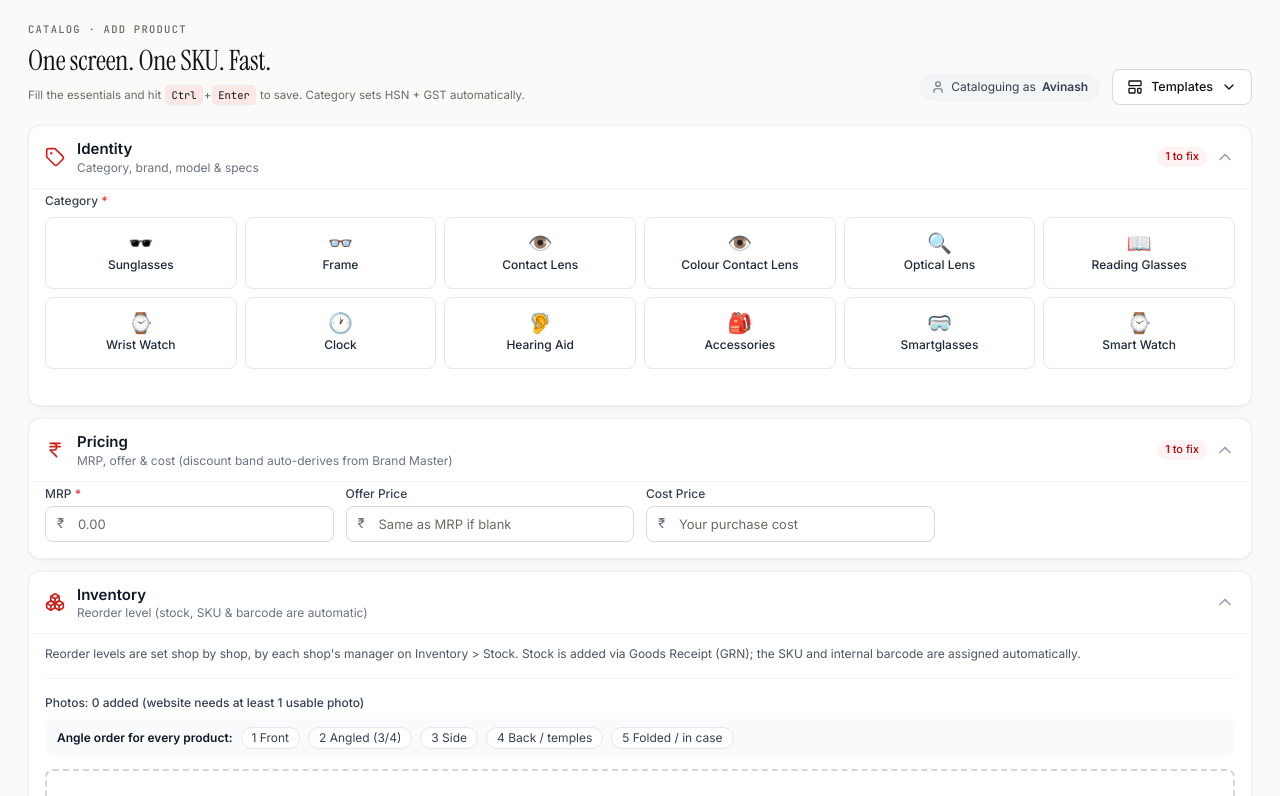
Test: 2 - a count on each section header › splits the validator's errors by section, stays visible on a CLOSED header, and clears as fields fill
This screenshot has width=1280, height=796.
Click the text "Sunglasses" at (141, 265), box [108, 257, 174, 273]
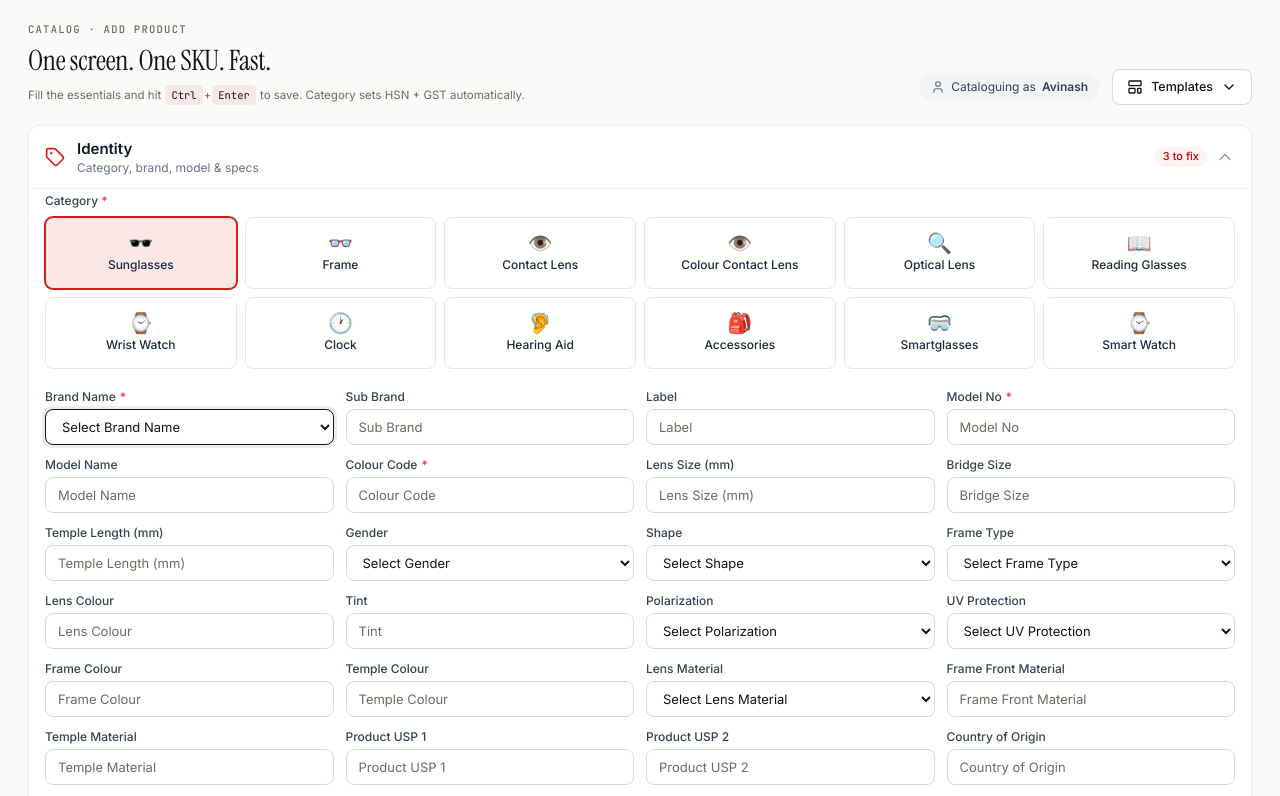
Click the button "Identity Category, brand, model & specs 3 to fix" at (105, 149), box [29, 126, 1251, 188]
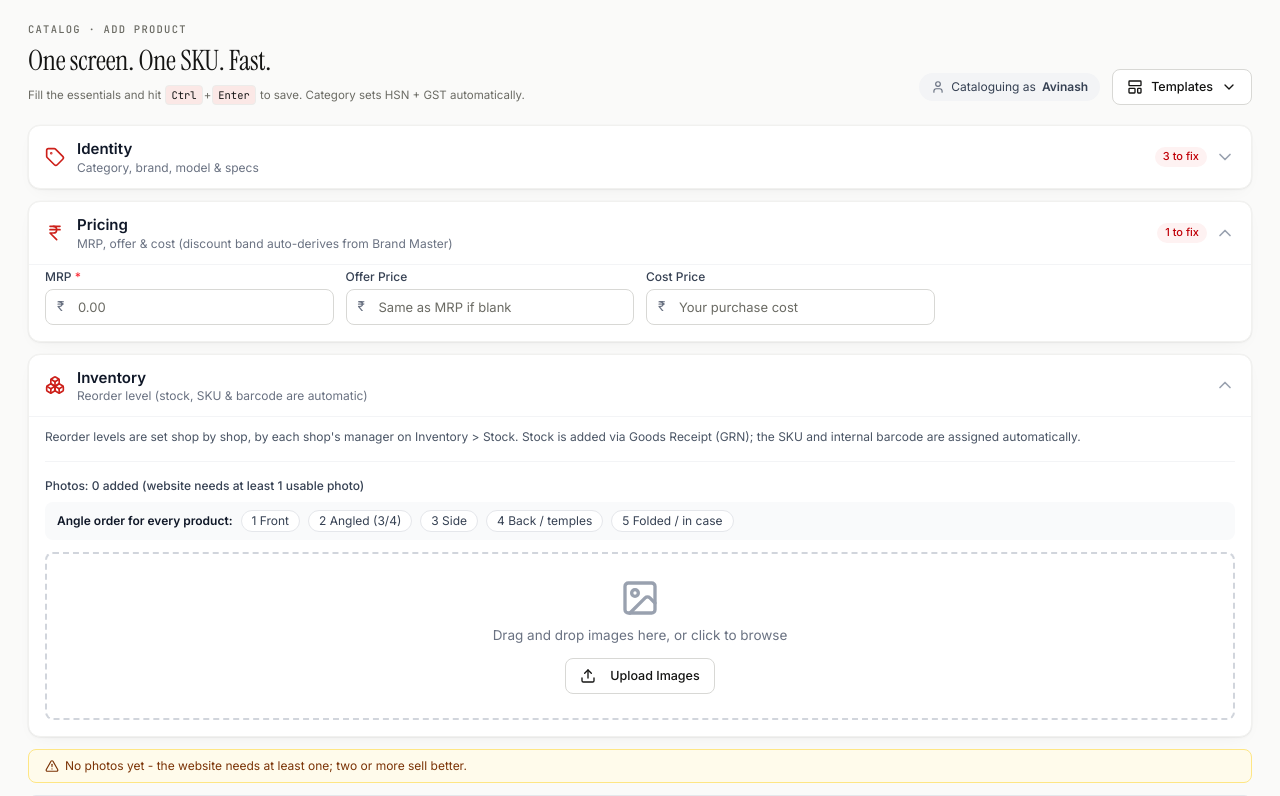
Now the label labelled "Model No" is gone
Type "7890" into the number field labelled "MRP *" at (189, 307), box [45, 289, 334, 325]
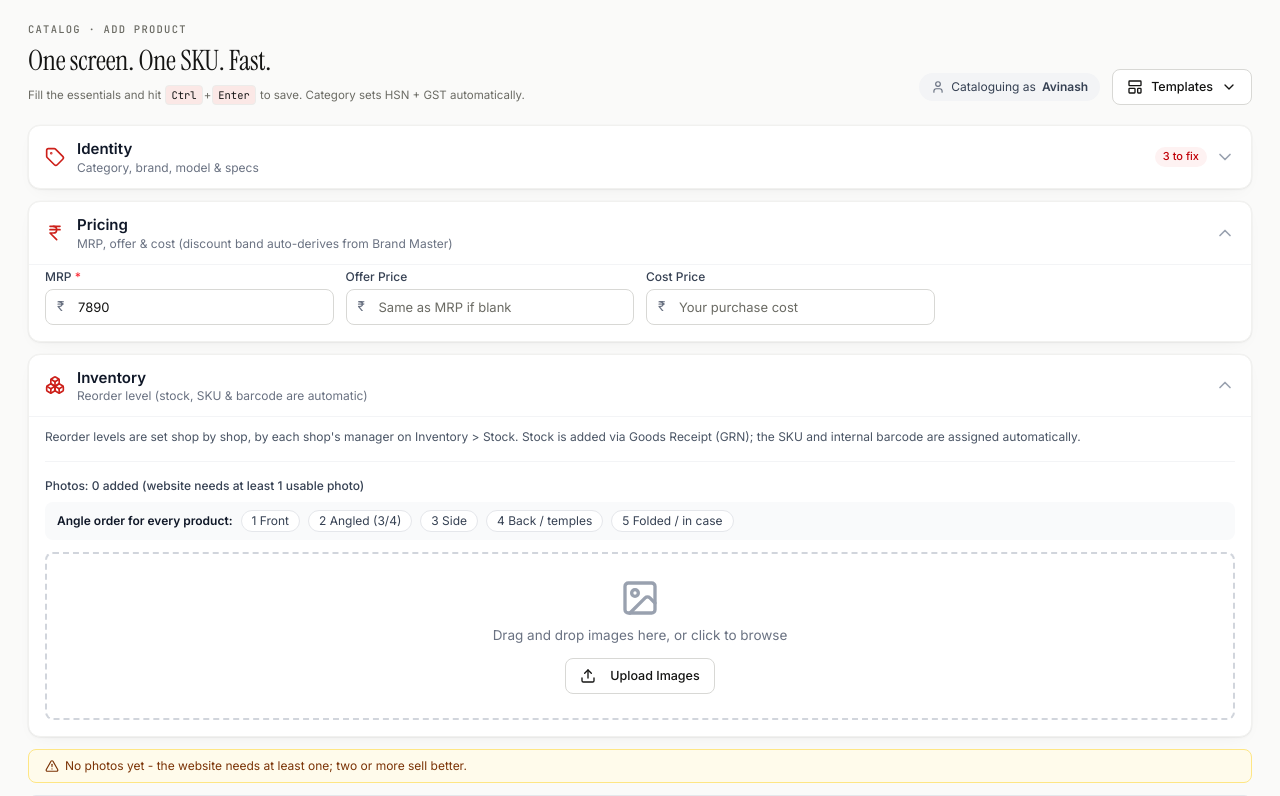
Now the text with test id "qa-section-issues-pricing" is gone
